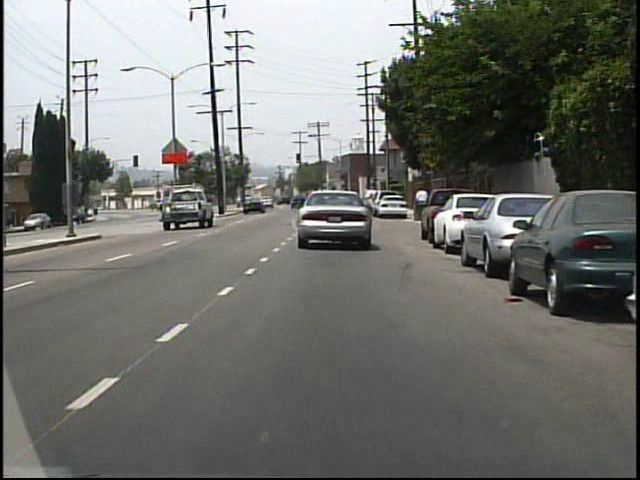person: (413, 183, 430, 225)
